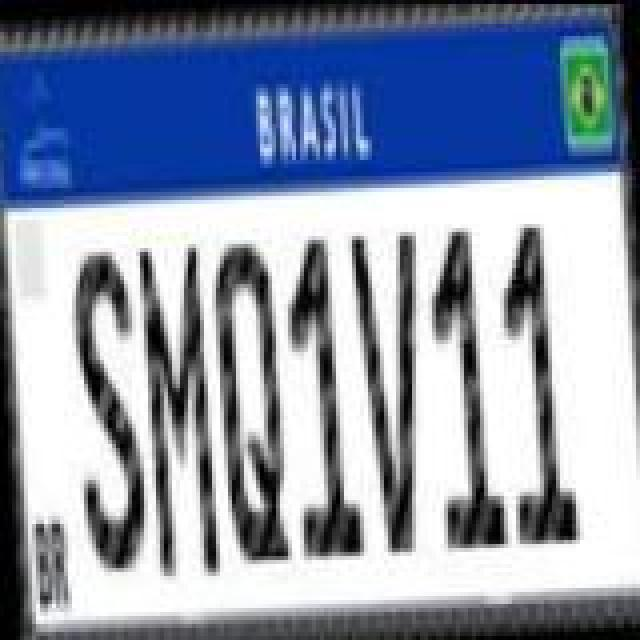1: (278, 226, 366, 562), (422, 212, 510, 548), (494, 212, 582, 548)
M: (136, 236, 220, 576)
Q: (208, 234, 292, 566)
S: (62, 238, 150, 578)
V: (350, 226, 438, 558)
